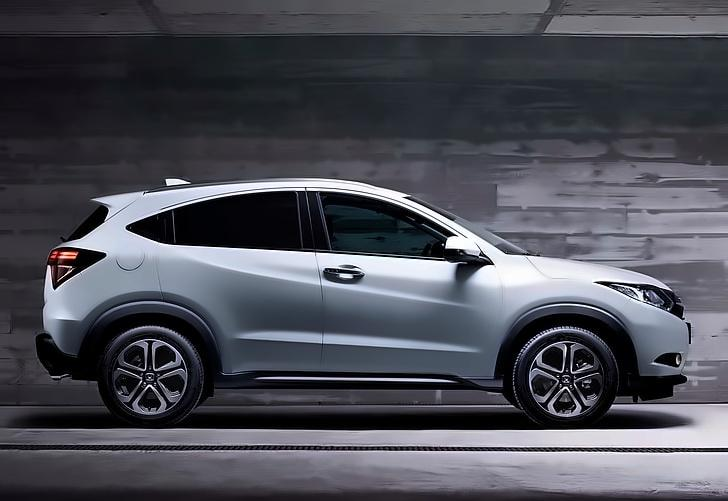Car hood: (526, 253, 674, 288)
Driver-s door - -F-R-: (308, 185, 489, 382)
Fender - -F-R-: (490, 257, 630, 384)
Fender - -R-R-: (75, 231, 162, 321)
Headlight - -R-: (585, 278, 688, 321)
Passenger-s door - -R-R-: (153, 184, 308, 380)
Rear bumper: (28, 298, 95, 402)
Rear light - -R-: (42, 243, 108, 290)
Side bumper - -R-: (204, 367, 510, 399)
Side mirror - -R-: (439, 231, 488, 270)
